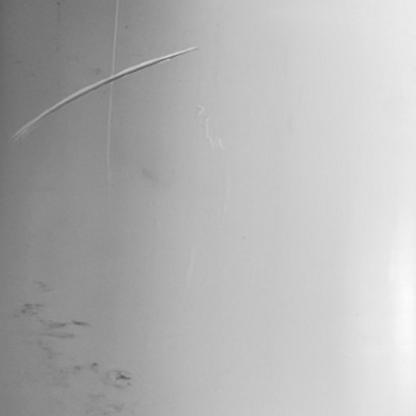sunshang: (12, 47, 199, 141)
